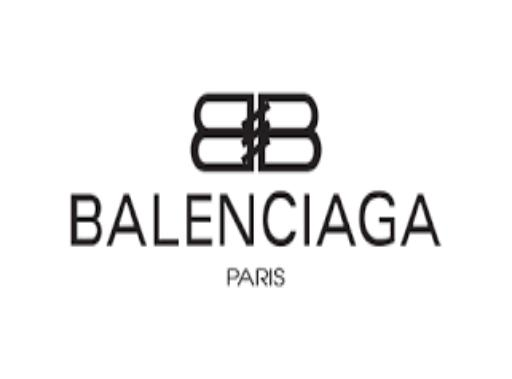BALENCIAGA: (65, 185, 445, 255), (188, 89, 323, 176)
